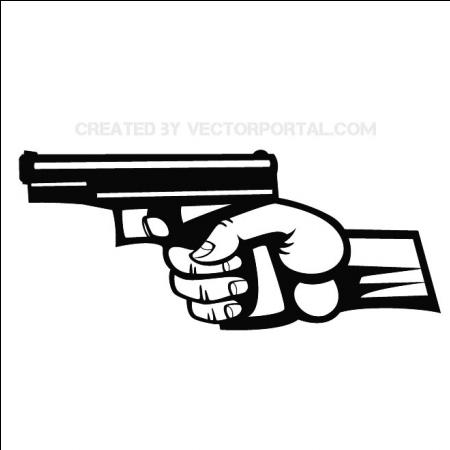Pistol: (16, 143, 294, 330)
